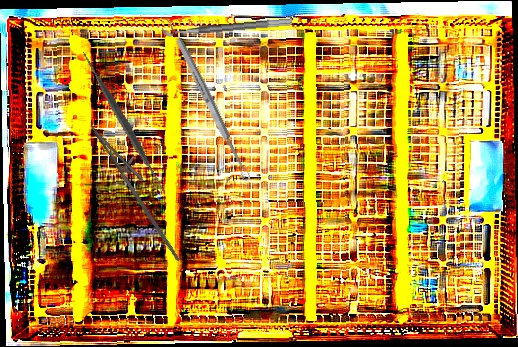Fixation Ring: (161, 6, 293, 38)
Needle Holder: (75, 117, 205, 263)
Spatula Surgical: (45, 44, 201, 199)
Surgical Spoon: (173, 35, 253, 184)
